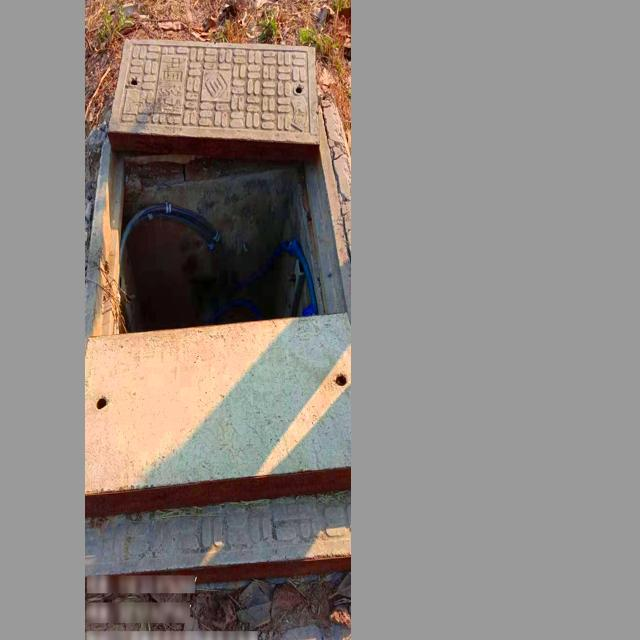uncovered: (85, 32, 351, 582)
